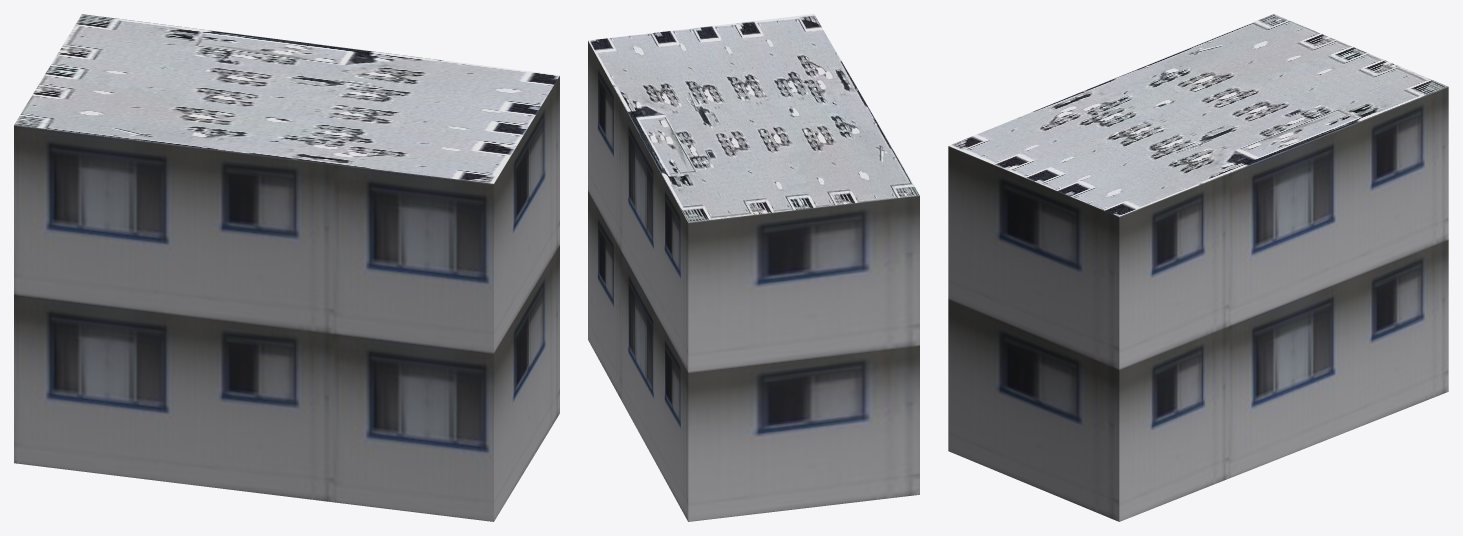
Rendered from ResTex__4877.fbx.
The picture shows the model from 3 angles, left to right: view 1: azimuth 30°, elevation 25°; view 2: azimuth 150°, elevation 25°; view 3: azimuth 270°, elevation 25°; orthographic projection. The views are drawn at different scales.
Visible parts, largest first — view 1: CityEngineMaterial_9_m, CityEngineMaterial_4_m; view 2: CityEngineMaterial_9_m, CityEngineMaterial_4_m; view 3: CityEngineMaterial_9_m, CityEngineMaterial_4_m.
Part boxes in pixels (left/top/right/bottom): CityEngineMaterial_9_m: left=14, top=76, right=559, bottom=521; CityEngineMaterial_4_m: left=14, top=14, right=559, bottom=183; CityEngineMaterial_9_m: left=588, top=41, right=919, bottom=521; CityEngineMaterial_4_m: left=588, top=14, right=919, bottom=222; CityEngineMaterial_9_m: left=948, top=86, right=1448, bottom=521; CityEngineMaterial_4_m: left=949, top=14, right=1447, bottom=216.
Size of the model in its own units: 8.55 by 6 by 8.91.
2 materials, 2 textured.
